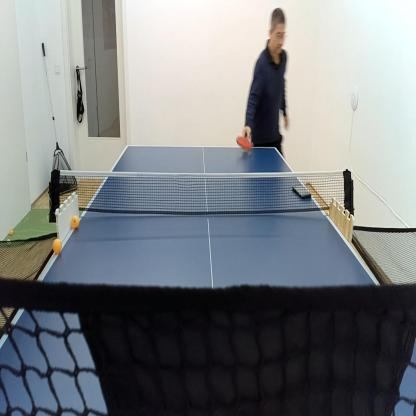Ball: (53, 238, 62, 252), (71, 215, 79, 227), (9, 229, 13, 236), (7, 238, 11, 244)
